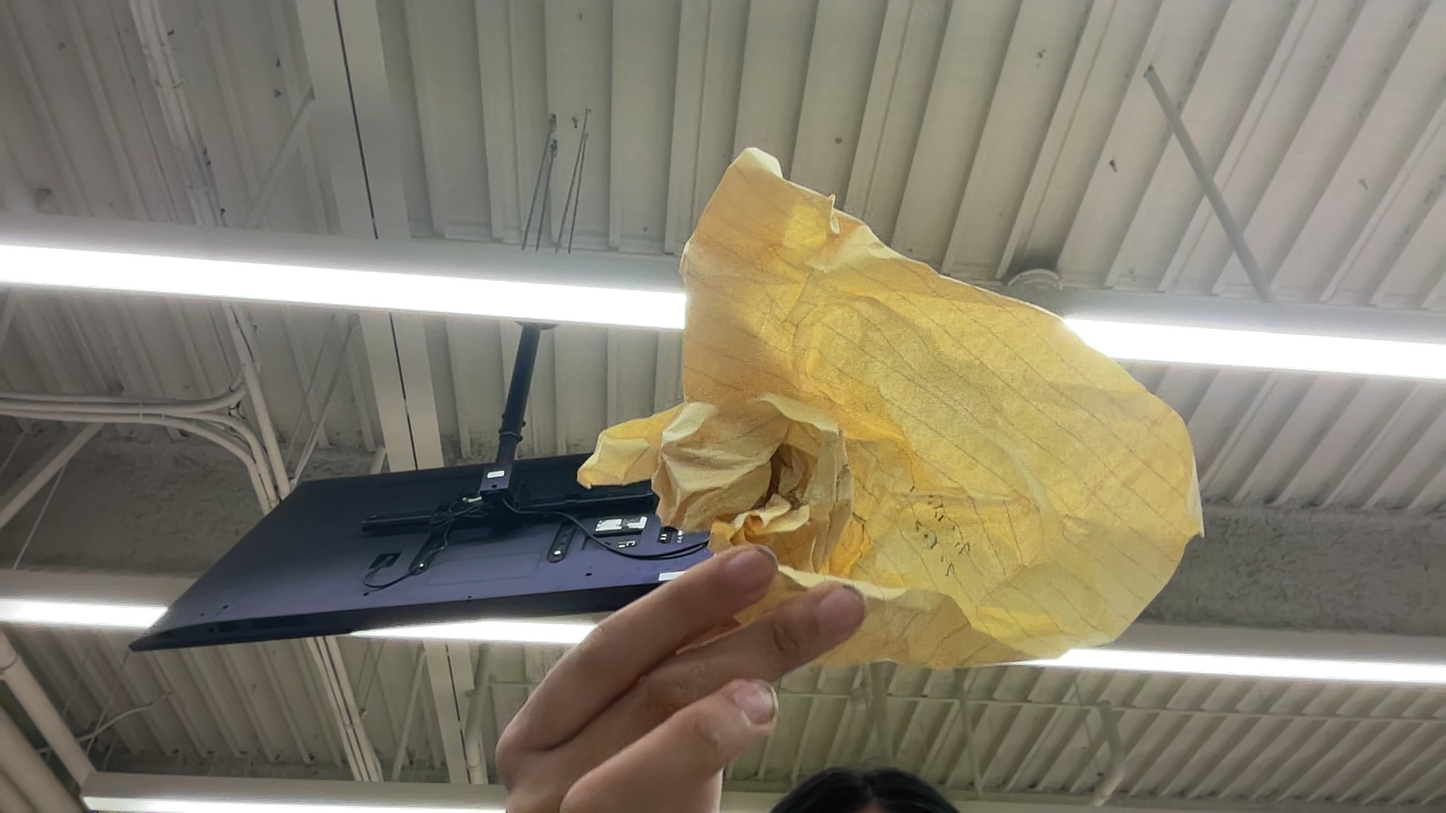Paper: (569, 396, 841, 547)
